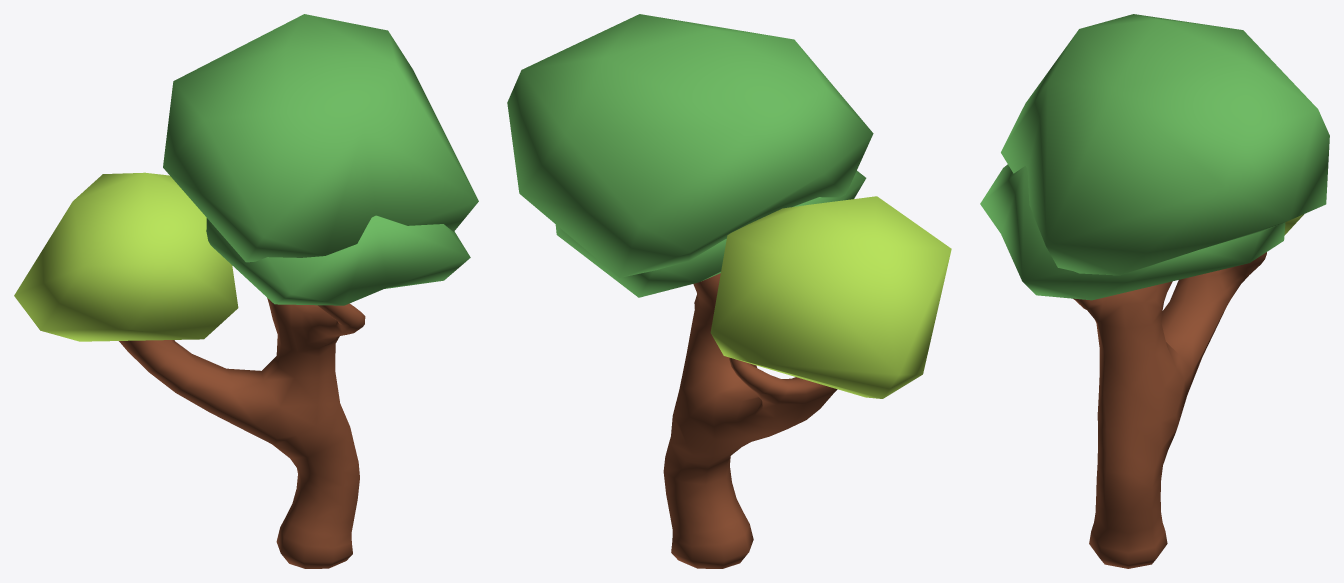
File: TreeStylized_V2.fbx
3 renders of one model, left to right at view 1: azimuth 30°, elevation 25°; view 2: azimuth 150°, elevation 25°; view 3: azimuth 270°, elevation 25°, orthographic. The views are drawn at different scales.
Visible parts, largest first — view 1: Mball.010, Mball.001, Plane.010, Mball.004; view 2: Mball.010, Mball.001, Plane.010, Mball.004; view 3: Mball.010, Plane.010, Mball.004.
Part boxes in pixels (left/top/right/bottom): Mball.010: left=163, top=14, right=478, bottom=262; Mball.001: left=14, top=172, right=238, bottom=341; Plane.010: left=119, top=298, right=365, bottom=568; Mball.004: left=206, top=215, right=470, bottom=305; Mball.010: left=507, top=14, right=873, bottom=277; Mball.001: left=710, top=196, right=951, bottom=398; Plane.010: left=663, top=273, right=837, bottom=568; Mball.004: left=555, top=171, right=866, bottom=297; Mball.010: left=1001, top=14, right=1329, bottom=275; Plane.010: left=1073, top=252, right=1266, bottom=568; Mball.004: left=980, top=164, right=1285, bottom=300.
Size of the model in its own units: 436 by 555 by 331.
